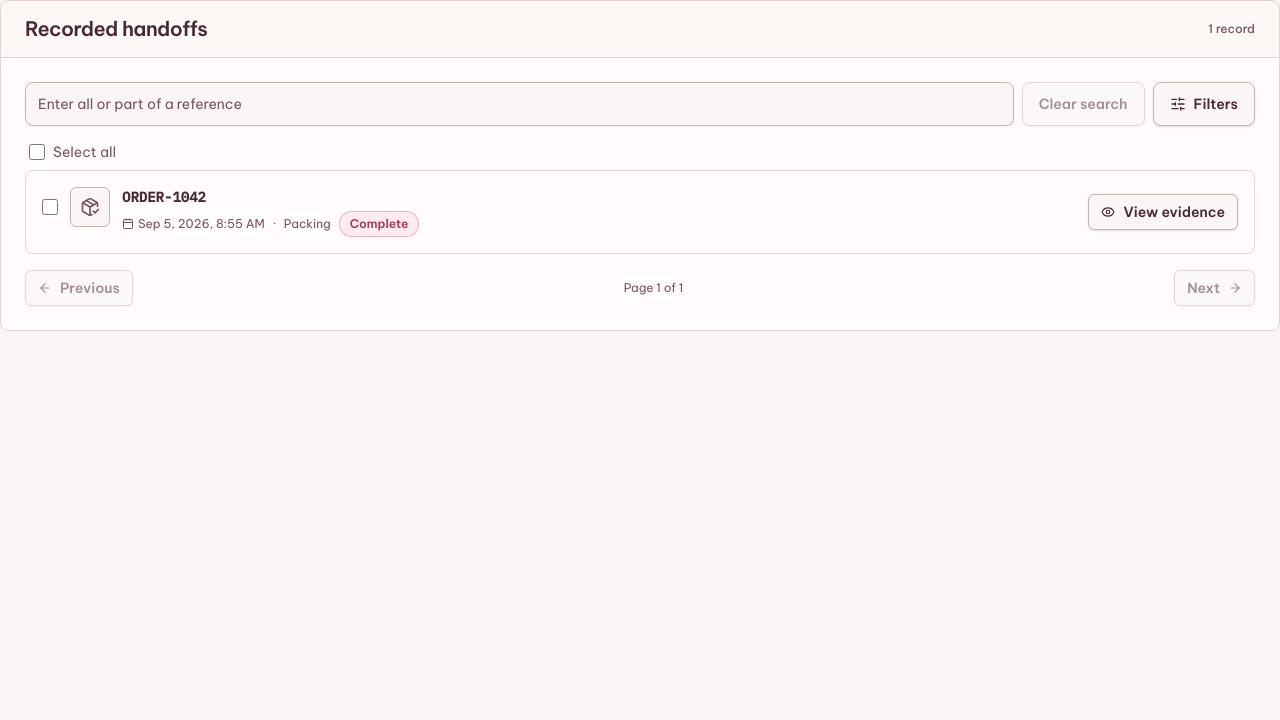
Test: RecorderHistory › hides Drive actions for expired evidence
Check: the text "ORDER-1042" is shown, box [122,188,206,206]
Click the button "View evidence". click: coordinates (1163, 212)
box: [1088,194,1238,230]
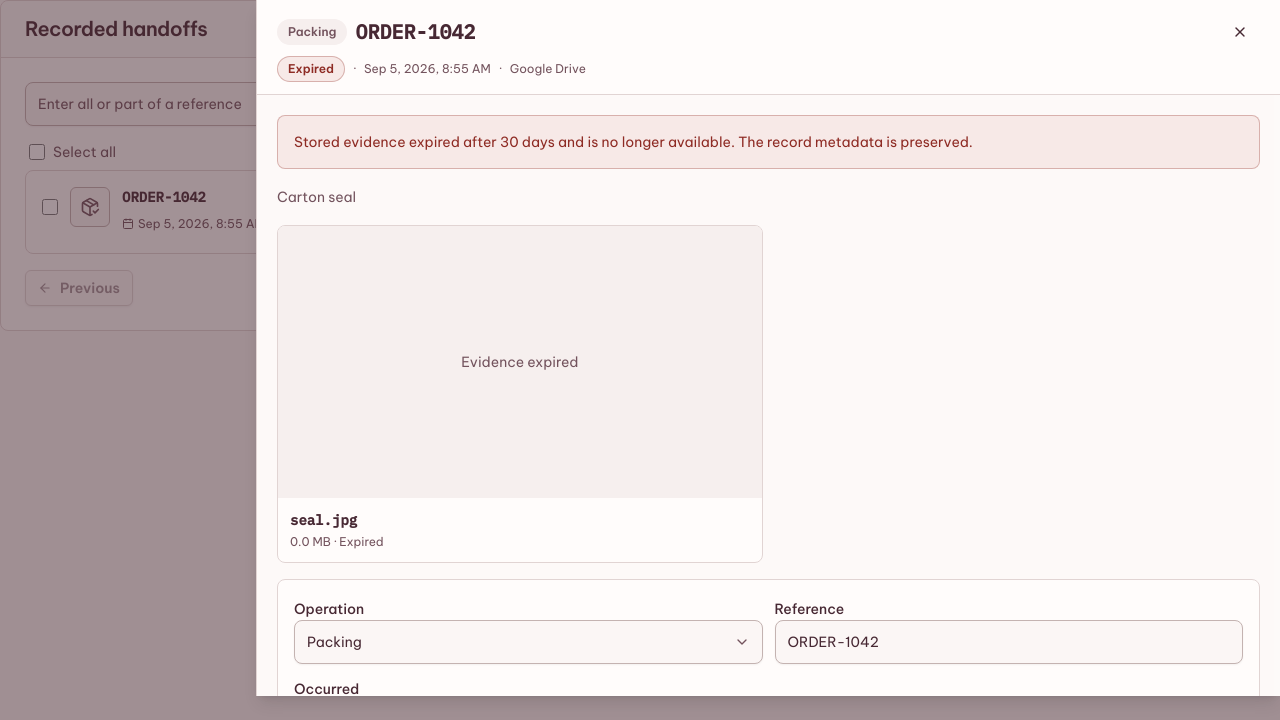
Check: the text "seal.jpg" is shown, box [290,511,357,529]
